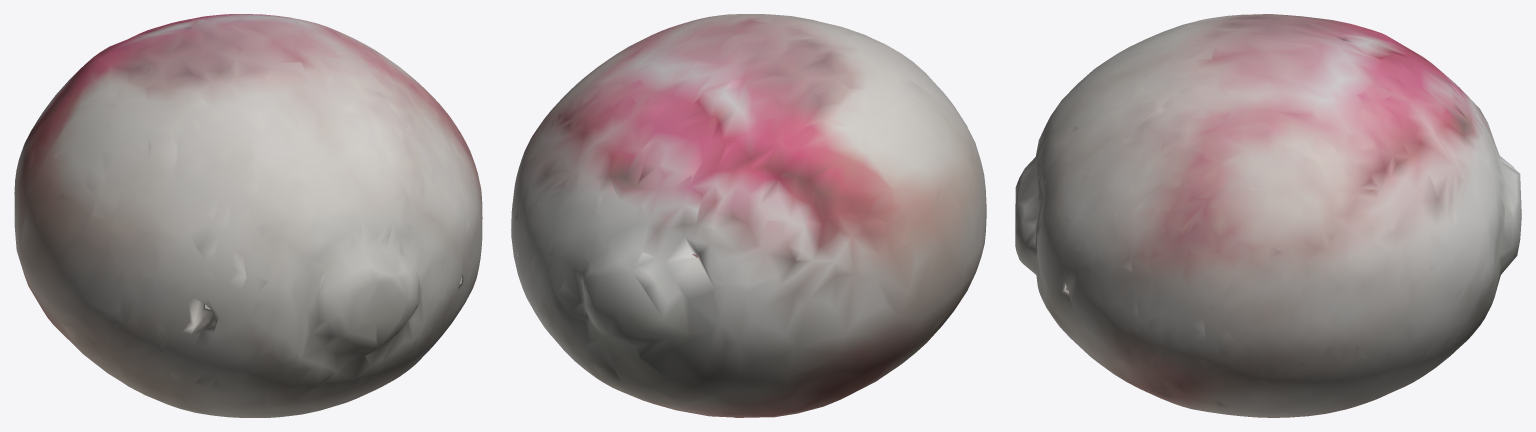
Rendered from ball.glb.
The picture shows the model from 3 angles, left to right: view 1: azimuth 30°, elevation 25°; view 2: azimuth 150°, elevation 25°; view 3: azimuth 270°, elevation 25°; orthographic projection.
Parts seen in each view (by area): view 1: geometry_0; view 2: geometry_0; view 3: geometry_0.
Part boxes in pixels (x1=…): geometry_0: x1=14, y1=14, x2=482, y2=417; geometry_0: x1=511, y1=14, x2=986, y2=417; geometry_0: x1=1015, y1=14, x2=1521, y2=417.
Bounding box in the file's own units: 0.2025 × 0.169 × 0.22.
